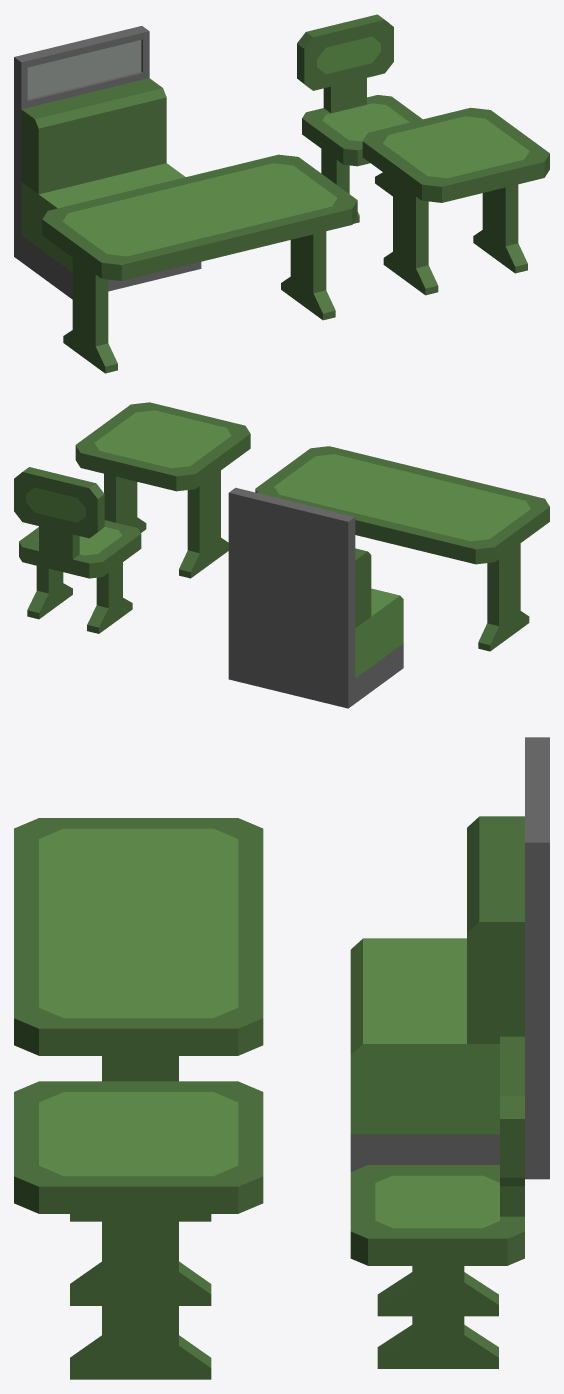
Rendered from Seating09.fbx.
3 views of the same model, one above another, from view 1: azimuth 30°, elevation 25°; view 2: azimuth 150°, elevation 25°; view 3: azimuth 270°, elevation 25° (orthographic). The views are drawn at different scales.
Visible parts, largest first — view 1: Table_Long, Sofa, Table, Chair; view 2: Sofa, Table_Long, Table, Chair; view 3: Table_Long, Sofa, Table, Chair.
Boxes of the visible parts, box(x1,y1,x2,y2) form: Table_Long: box(42, 154, 357, 373); Sofa: box(14, 26, 201, 299); Table: box(362, 107, 549, 295); Chair: box(297, 14, 422, 223); Sofa: box(228, 487, 403, 708); Table_Long: box(255, 446, 549, 651); Table: box(75, 402, 250, 578); Chair: box(14, 467, 141, 633); Table_Long: box(14, 818, 263, 1221); Sofa: box(350, 737, 549, 1179); Table: box(14, 1081, 263, 1379); Chair: box(350, 1036, 524, 1368).
Bounding box in the file's own units: 3.5 × 1.49 × 2.15.
Materials: 1 (1 with a texture image).
